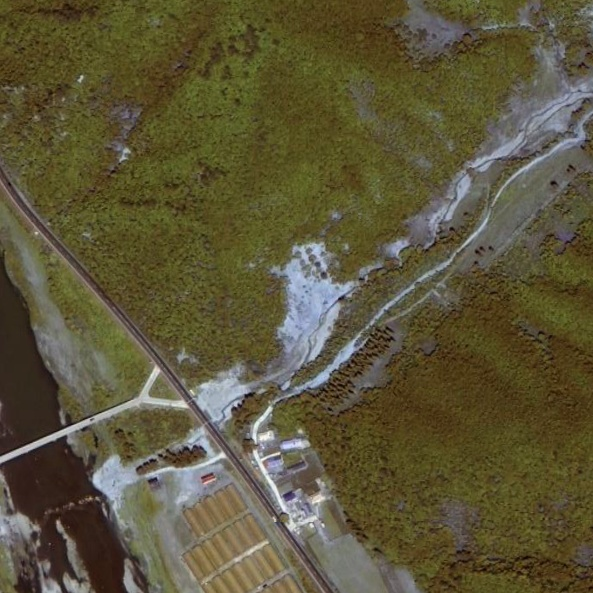slope: (274, 238, 363, 366), (196, 364, 247, 422)
